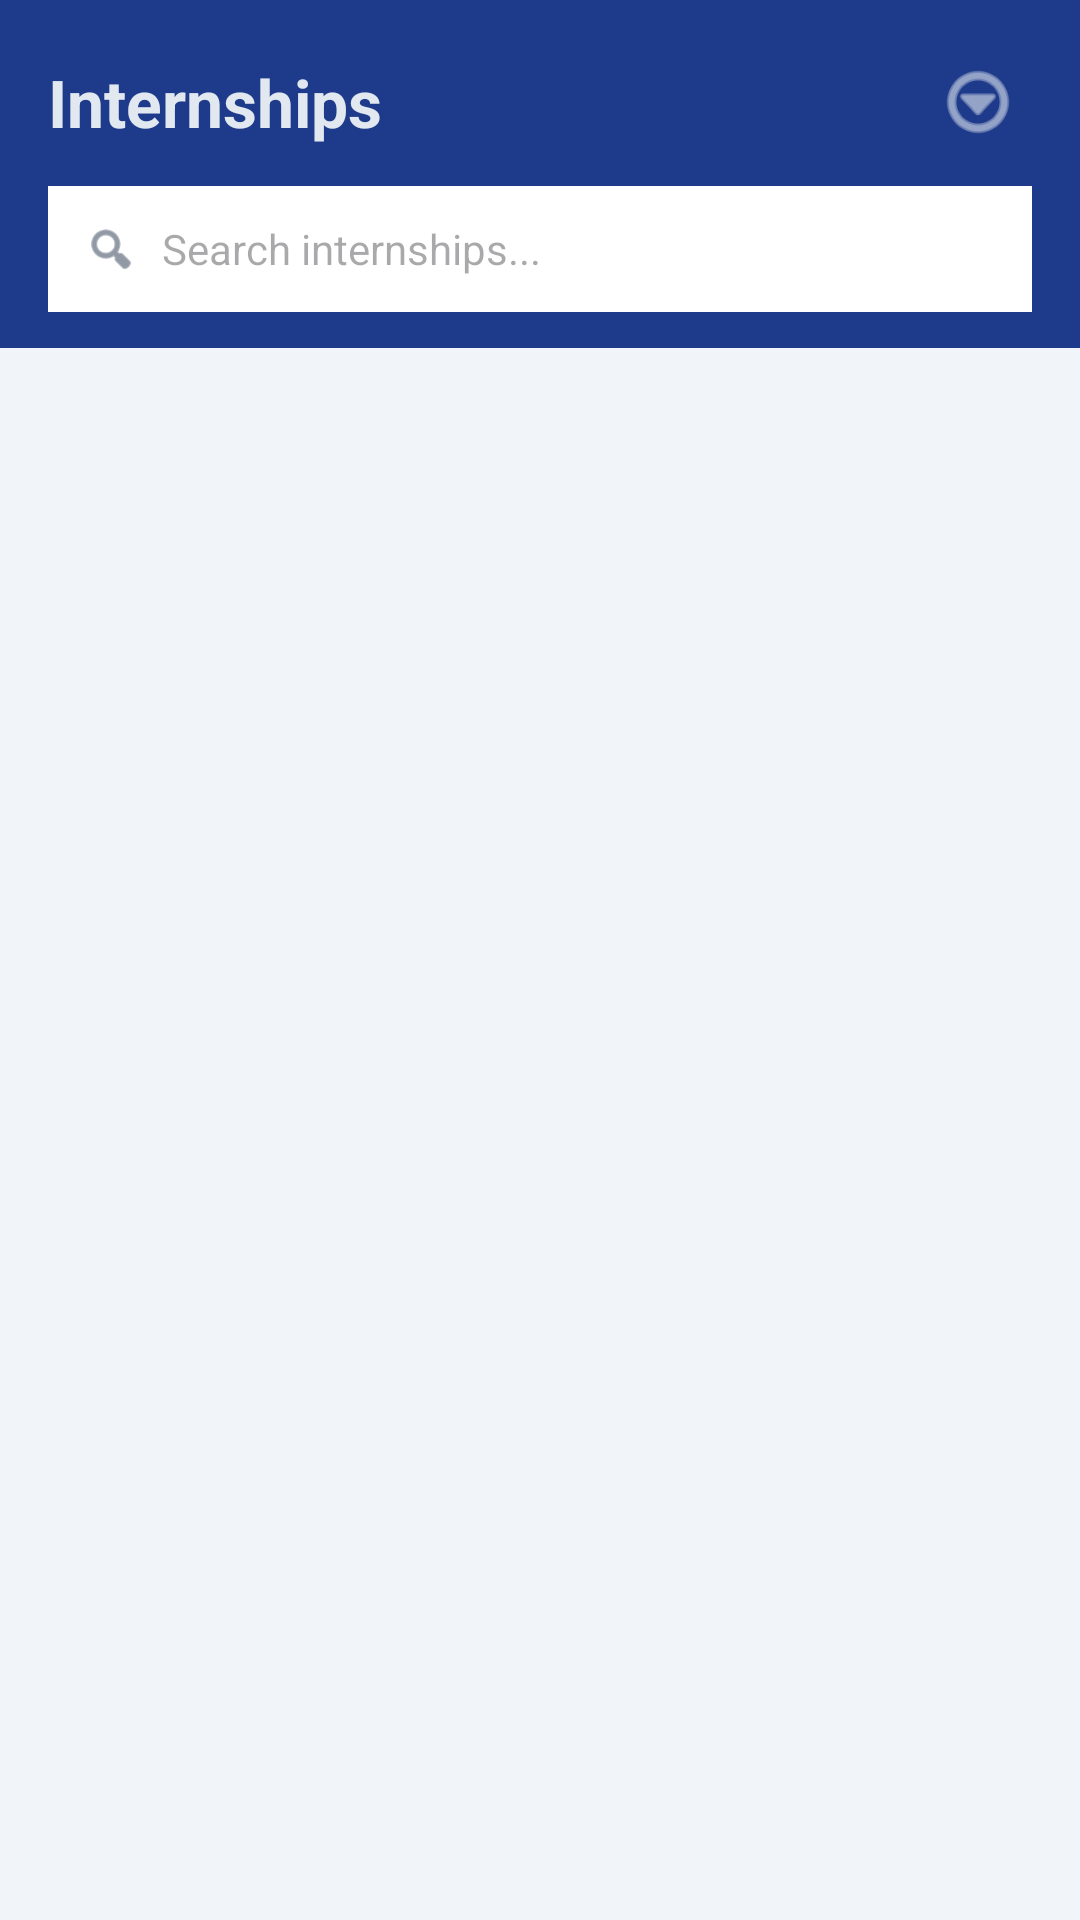

Where to tap for icons on this 1080x1920 app screen, as [x,y]:
more: [978,102]
